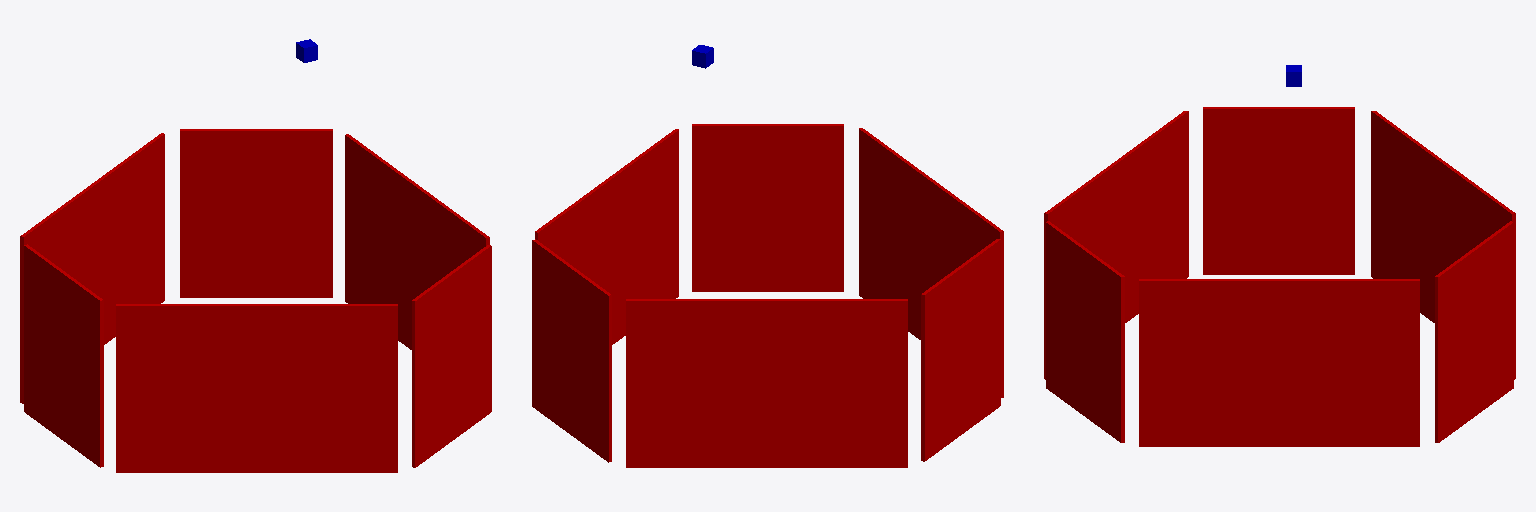
robot.urdf — omnirobot_v3:
<?xml version="1.0" encoding="utf-8"?>
<!-- This URDF was automatically created by SolidWorks to URDF Exporter! Originally created by [author] ([email redacted]) 
     Commit Version: 1.5.1-0-g916b5db  Build Version: 1.5.7152.31018
     For more information, please see http://wiki.ros.org/sw_urdf_exporter -->
<robot
  name="omnirobot_v3">
  <!--colours defined for convenience-->
  <material name="black">
    <color rgba="0.0 0.0 0.0 1.0"/>
  </material>
  <material name="blue">
    <color rgba="0.0 0.0 0.8 1.0"/>
  </material>
  <material name="green">
    <color rgba="0.0 0.8 0.0 1.0"/>
  </material>
  <material name="grey">
    <color rgba="0.2 0.2 0.2 1.0"/>
  </material>
  <material name="orange">
    <color rgba="1.0 0.4235294117647059 0.0392156862745098 1.0"/>
  </material>
  <material name="brown">
    <color rgba="0.8705882352941177 0.8117647058823529 0.7647058823529411 1.0"/>
  </material>
  <material name="red">
    <color rgba="0.8 0.0 0.0 1.0"/>
  </material>
  <material name="white">
    <color rgba="1.0 1.0 1.0 1.0"/>
  </material>
  <!--colours defined for convenience-->
  <link
    name="base_link">
    <inertial>
      <origin
        xyz="0.012151 -0.012869 0.20"
        rpy="0 0 0" /> <!--This is the centre of mass xyz="0.012151 -0.012869 0.37433" -->
      <mass
        value="25.164" /> <!--25.164-->
      <inertia
        ixx="0.15544"
        ixy="-1.3379E-05"
        ixz="4.946E-05"
        iyy="0.15382"
        iyz="-3.2387E-05"
        izz="0.16354" />
    </inertial>
    <visual>
      <origin
        xyz="0 0 0"
        rpy="0 0 0" />
      <geometry>
        <mesh
          filename="package://omnirobot_v3/meshes/base_link.STL" />
      </geometry>
      <material
        name="">
        <color
          rgba="0.62745 0.62745 0.62745 1" />
      </material>
    </visual>
    <collision>
      <origin
        xyz="0 0 0"
        rpy="0 0 0" />
      <geometry>
        <mesh
          filename="package://omnirobot_v3/meshes/base_link.STL" />
      </geometry>
    </collision>
  </link>
  <!--############# Here onwards is added virtual links section ##############-->
  <link
    name="camera"> <!--virtual link-->
    <inertial>
      <origin
        xyz="-0.018786 -0.00025995 0.0091985"
        rpy="0 0 0" /> 
      <mass
        value="0.16603" />
      <inertia
        ixx="0.0004097"
        ixy="5.348E-07"
        ixz="-3.83E-08"
        iyy="2.5534E-05"
        iyz="1.2789E-08"
        izz="0.00041805" />
    </inertial>
    <visual>
      <origin
        xyz="0 0 0"
        rpy="0 0 0" />
      <geometry>
        <!--mesh
          filename="package://omnirobot/meshes/front_right_plate.STL" /-->
        <box size="0.02 0.02 0.02"/>
      </geometry>
      <material
        name="blue">
      </material>
    </visual>
    <!--visual>
      <origin
        xyz="0 0 0"
        rpy="0 0 0" />
      <geometry>
        <mesh
          filename="package://omnirobot/meshes/camera.STL" />
      </geometry>
      <material
        name="">
        <color
          rgba="0.792156862745098 0.819607843137255 0.933333333333333 1" />
      </material>
    </visual>
    <collision>
      <origin
        xyz="0 0 0"
        rpy="0 0 0" />
      <geometry>
        <mesh
          filename="package://omnirobot/meshes/camera.STL" />
      </geometry>
    </collision-->
  </link>
  <joint
    name="camera_to_base_link"
    type="fixed">
    <origin
      xyz="0.08046 0.005 0.81809"
      rpy="0 0 0" /> <!--originally: xyz="0.11046 -0.004146 0.78309"
      rpy="0 0 0"-->
    <parent
      link="base_link" />
    <child
      link="camera" />
    <axis
      xyz="0 0 0" />
  </joint>
  <link
    name="laser_1">
    <inertial>
      <origin
        xyz="-6.245E-07 -0.023496 -0.012259"
        rpy="0 0 0" />
      <mass
        value="0.1215" />
      <inertia
        ixx="0.00010976"
        ixy="1.2854E-07"
        ixz="2.2888E-07"
        iyy="0.00010738"
        iyz="9.393E-07"
        izz="6.0425E-05" />
    </inertial>
    <!--visual>
      <origin
        xyz="0 0 0"
        rpy="0 0 0" />
      <geometry>
        <mesh
          filename="package://omnirobot/meshes/laser_1.STL" />
      </geometry>
      <material
        name="">
        <color
          rgba="0.627450980392157 0.627450980392157 0.627450980392157 1" />
      </material>
    </visual>
    <collision>
      <origin
        xyz="0 0 0"
        rpy="0 0 0" />
      <geometry>
        <mesh
          filename="package://omnirobot/meshes/laser_1.STL" />
      </geometry>
    </collision-->
  </link>
  <joint
    name="laser_1_to_base_link"
    type="fixed">
    <origin
      xyz="0.052032 0.1139 0.6588" 
      rpy="0 0 1.57079" /> <!--calibrated values from original: xyz="0.081032 0.1439 0.6388" 
      rpy="0 0 1.57079" />-->
    <parent
      link="base_link" />
    <child
      link="laser_1" />
    <axis
      xyz="0 0 0" />
  </joint>
  <link
    name="laser_2">
    <inertial>
      <origin
        xyz="6.2453E-07 0.023496 -0.012259"
        rpy="0 0 0" />
      <mass
        value="0.1215" />
      <inertia
        ixx="0.00010976"
        ixy="1.2854E-07"
        ixz="-2.2888E-07"
        iyy="0.00010738"
        iyz="-9.393E-07"
        izz="6.0425E-05" />
    </inertial>
    <!--visual>
      <origin
        xyz="0 0 0"
        rpy="0 0 0" />
      <geometry>
        <mesh
          filename="package://omnirobot/meshes/laser_2.STL" />
      </geometry>
      <material
        name="">
        <color
          rgba="0.627450980392157 0.627450980392157 0.627450980392157 1" />
      </material>
    </visual>
    <collision>
      <origin
        xyz="0 0 0"
        rpy="0 0 0" />
      <geometry>
        <mesh
          filename="package://omnirobot/meshes/laser_2.STL" />
      </geometry>
    </collision-->
  </link>
  <joint
    name="laser_2_to_base_link"
    type="fixed">
    <origin
      xyz="0.046032 -0.1322 0.6588"
      rpy="0 0 -1.57079" /> <!--calibrated values from original: xyz="0.081032 -0.1522 0.6388"-->
    <parent
      link="base_link" />
    <child
      link="laser_2" />
    <axis
      xyz="0 0 0" />
  </joint>
  <link
    name="front_plate">
    <inertial>
      <origin
        xyz="0.0095337 1.1345E-15 0.0034793"
        rpy="0 0 0" />
      <mass
        value="0.47182" />
      <inertia
        ixx="0.0065826"
        ixy="3.3798E-17"
        ixz="-7.3583E-08"
        iyy="0.0019654"
        iyz="-3.9219E-15"
        izz="0.0046194" />
    </inertial>
    <visual>
      <origin
        xyz="0 0 0"
        rpy="0 0 0" />
      <geometry>
        <!--mesh
          filename="package://omnirobot/meshes/front_plate.STL" /-->
        <box size="0.005 0.345 0.225"/>
      </geometry>
      <material
        name="red">
        <!--color
          rgba="1 1 1 0.3" /-->
      </material>
    </visual>
    <collision>
      <origin
        xyz="0 0 0"
        rpy="0 0 0" />
      <geometry>
        <!--mesh
          filename="package://omnirobot/meshes/front_plate.STL" /-->
        <box size="0.005 0.345 0.225"/>
      </geometry>
    </collision>
  </link>
  <joint
    name="front_plate_to_base_link"
    type="fixed">
    <origin
      xyz="0.22587 -0.012539 0.49700"
      rpy="0 0 0" /> <!--calibrated values from original: xyz="0.23247 -0.003539 0.46991"--><!--Values before offset for force_torque sensing in pybullet: xyz="0.22487 -0.012539 0.49700"-->
    <parent
      link="base_link" />
    <child
      link="front_plate" />
    <axis
      xyz="0 0 0" />
  </joint>
  <link
    name="back_plate">
    <inertial>
      <origin
        xyz="-0.010977 6.5356E-16 0.021201"
        rpy="0 0 0" />
      <mass
        value="0.26343" />
      <inertia
        ixx="0.0017823"
        ixy="-8.3769E-16"
        ixz="6.4463E-16"
        iyy="0.0010598"
        iyz="-1.3548E-15"
        izz="0.00072461" />
    </inertial>
    <visual>
      <origin
        xyz="0 0 0"
        rpy="0 0 0" />
      <geometry>
        <!--mesh
          filename="package://omnirobot/meshes/back_plate.STL" /-->
        <box size="0.005 0.186 0.225"/>
      </geometry>
      <material
        name="red">
        <!--color
          rgba="1 1 1 0.3" /-->
      </material>
    </visual>
    <collision>
      <origin
        xyz="0 0 0"
        rpy="0 0 0" />
      <geometry>
        <!--mesh
          filename="package://omnirobot/meshes/back_plate.STL" /-->
        <box size="0.005 0.186 0.225"/>
      </geometry>
    </collision>
  </link>
  <joint
    name="back_plate_to_base_link"
    type="fixed"> <!---calibrated x value: 0.27259-->
    <origin
      xyz="-0.27359 -0.013250 0.49700"
      rpy="0 0 0" /> <!--calibrated values from original: xyz="-0.24359 -0.003539 0.45137"--><!--Values before offset for force_torque sensing in pybullet: xyz="-0.27259 -0.013250 0.49700"-->
    <parent
      link="base_link" />
    <child
      link="back_plate" />
    <axis
      xyz="0 0 0" />
  </joint>
  <link
    name="front_left_plate">
    <inertial>
      <origin
        xyz="0.0054884 0.0095062 0.021201"
        rpy="0 0 0" />
      <mass
        value="0.26343" />
      <inertia
        ixx="0.0012404"
        ixy="0.00031287"
        ixz="-1.3516E-15"
        iyy="0.0016017"
        iyz="-1.9871E-16"
        izz="0.00072461" />
    </inertial>
    <visual>
      <origin
        xyz="0 0 0"
        rpy="0 0 0" />
      <geometry>
        <!--mesh
          filename="package://omnirobot/meshes/front_left_plate.STL" /-->
        <box size="0.005 0.186 0.225"/>
      </geometry>
      <material
        name="red">
        <!--color
          rgba="1 1 1 0.3" /-->
      </material>
    </visual>
    <collision>
      <origin
        xyz="0 0 0"
        rpy="0 0 0" />
      <geometry>
        <!--mesh
          filename="package://omnirobot/meshes/front_left_plate.STL" /-->
        <box size="0.005 0.186 0.225"/>
      </geometry>
    </collision>
  </link>
  <joint
    name="front_left_plate_to_base_link"
    type="fixed">
    <origin
      xyz="0.13693 0.2264001 0.49700"
      rpy="0 0 1.04719" /> <!--calibrated values from original: xyz="0.14543 0.22107 0.45137" rpy='"0 0 0"--><!--Values before offset for force_torque sensing in pybullet: xyz="0.13443 0.22207 0.49700"-->
    <parent
      link="base_link" />
    <child
      link="front_left_plate" />
    <axis
      xyz="0 0 0" />
  </joint>
  <link
    name="front_right_plate">
    <inertial>
      <origin
        xyz="0.0054884 -0.0094962 0.021201"
        rpy="0 0 0" />
      <mass
        value="0.26343" />
      <inertia
        ixx="0.0012404"
        ixy="-0.00031287"
        ixz="1.1957E-15"
        iyy="0.0016017"
        iyz="1.2014E-15"
        izz="0.00072461" />
    </inertial>
    <visual>
      <origin
        xyz="0 0 0"
        rpy="0 0 0" />
      <geometry>
        <!--mesh
          filename="package://omnirobot/meshes/front_right_plate.STL" /-->
        <box size="0.005 0.186 0.225"/>
      </geometry>
      <material
        name="red">
        <!--color
          rgba="1 1 1 0.3" /-->
      </material>
    </visual>
    <collision>
      <origin
        xyz="0 0 0"
        rpy="0 0 0" />
      <geometry>
        <!--mesh
          filename="package://omnirobot/meshes/front_right_plate.STL" /-->
        <box size="0.005 0.186 0.225"/>
      </geometry>
    </collision>
  </link>
  <joint
    name="front_right_plate_to_base_link"
    type="fixed">
    <origin
      xyz="0.13643 -0.2514701 0.49700"
      rpy="0 0 -1.04719" /> <!--calibrated values from original: xyz="0.14543 -0.22814 0.45137" rpy='"0 0 0"--><!--Values before offset for force_torque sensing in pybullet: xyz="0.13393 -0.24714 0.49700"-->
    <parent
      link="base_link" />
    <child
      link="front_right_plate" />
    <axis
      xyz="0 0 0" />
  </joint>
  <link
    name="back_left_plate">
    <inertial>
      <origin
        xyz="-0.0047668 0.0082563 0.0034797"
        rpy="0 0 0" />
      <mass
        value="0.47182" />
      <inertia
        ixx="0.0031197"
        ixy="-0.0019993"
        ixz="3.0353E-15"
        iyy="0.0054283"
        iyz="2.666E-15"
        izz="0.0046194" />
    </inertial>
    <visual>
      <origin
        xyz="0 0 0"
        rpy="0 0 0" />
      <geometry>
        <!--mesh
          filename="package://omnirobot/meshes/back_left_plate.STL" /-->
        <box size="0.005 0.345 0.225"/>
      </geometry>
      <material
        name="red">
        <!--color
          rgba="1 1 1 0.3" /-->
      </material>
    </visual>
    <collision>
      <origin
        xyz="0 0 0"
        rpy="0 0 0" />
      <geometry>
        <!--mesh
          filename="package://omnirobot/meshes/back_left_plate.STL" /-->
        <box size="0.005 0.345 0.225"/>
      </geometry>
    </collision>
  </link>
  <joint
    name="back_left_plate_to_base_link"
    type="fixed">
    <origin
      xyz="-0.116098 0.1884701 0.49700"
      rpy="0 0 -1.04719" /> <!--calibrated values from original: xyz="-0.092598 0.18414 0.46991" rpy='"0 0 0"--><!--Values before offset for force_torque sensing in pybullet: xyz="-0.113598 0.18414 0.49700"-->
    <parent
      link="base_link" />
    <child
      link="back_left_plate" />
    <axis
      xyz="0 0 0" />
  </joint>
  <link
    name="back_right_plate">
    <inertial>
      <origin
        xyz="-0.0047668 -0.0082563 0.0034797"
        rpy="0 0 0" />
      <mass
        value="0.47182" />
      <inertia
        ixx="0.0031197"
        ixy="0.0019993"
        ixz="-3.5959E-15"
        iyy="0.0054283"
        iyz="1.5424E-15"
        izz="0.0046194" />
    </inertial>
    <visual>
      <origin
        xyz="0 0 0"
        rpy="0 0 0" />
      <geometry>
        <!--mesh
          filename="package://omnirobot/meshes/back_right_plate.STL" /-->
        <box size="0.005 0.345 0.225"/>
      </geometry>
      <material
        name="red">
        <!--color
          rgba="1 1 1 0.3" /-->
      </material>
    </visual>
    <collision>
      <origin
        xyz="0 0 0"
        rpy="0 0 0" />
      <geometry>
        <!--mesh
          filename="package://omnirobot/meshes/back_right_plate.STL" /-->
        <box size="0.005 0.345 0.225"/>
      </geometry>
    </collision>
  </link>
  <joint
    name="back_right_plate_to_base_link"
    type="fixed">
    <origin
      xyz="-0.116098 -0.2130501 0.49700"
      rpy="0 0 1.04719" /> <!--calibrated values from original: xyz="-0.092598 -0.19122 0.46991" rpy='"0 0 0"--><!--Values before offset for force_torque sensing in pybullet: xyz="-0.113598 -0.20872 0.49700"-->
    <parent
      link="base_link" />
    <child
      link="back_right_plate" />
    <axis
      xyz="0 0 0" />
  </joint>
<!--############# before here is added section ##############-->
<!--Not integrating the wheels as of now, as we can ignore the actual rotation of the wheels, but just based on /cmd_vel in simulation for now-->

</robot>

--- Facts derived from the render (not from the file) ---
The picture shows the robot from 3 angles, left to right: view 1: azimuth 30°, elevation 25°; view 2: azimuth 150°, elevation 25°; view 3: azimuth 270°, elevation 25°; orthographic projection.
Robot: omnirobot_v3 — 10 links, 9 joints (9 fixed); root link base_link; default pose: every joint at zero.
Visible links, largest first — view 1: back_right_plate, front_left_plate, back_left_plate, front_plate, front_right_plate, back_plate; view 2: back_left_plate, front_right_plate, back_right_plate, front_plate, front_left_plate, back_plate; view 3: front_plate, back_plate, back_left_plate, back_right_plate, front_right_plate, front_left_plate.
Boxes of the visible links, x1=… form: back_right_plate: x1=116, y1=304, x2=397, y2=472; front_left_plate: x1=180, y1=129, x2=332, y2=297; back_left_plate: x1=20, y1=133, x2=164, y2=403; front_plate: x1=345, y1=134, x2=489, y2=349; front_right_plate: x1=412, y1=245, x2=491, y2=467; back_plate: x1=24, y1=244, x2=103, y2=467; back_left_plate: x1=626, y1=299, x2=907, y2=467; front_right_plate: x1=692, y1=124, x2=843, y2=291; back_right_plate: x1=859, y1=128, x2=1003, y2=397; front_plate: x1=535, y1=129, x2=678, y2=344; front_left_plate: x1=532, y1=239, x2=611, y2=462; back_plate: x1=921, y1=239, x2=1000, y2=461; front_plate: x1=1139, y1=279, x2=1419, y2=446; back_plate: x1=1203, y1=107, x2=1354, y2=274; back_left_plate: x1=1371, y1=111, x2=1515, y2=379; back_right_plate: x1=1044, y1=111, x2=1188, y2=379; front_right_plate: x1=1046, y1=221, x2=1124, y2=442; front_left_plate: x1=1435, y1=221, x2=1513, y2=442.
Size in the robot's own frame: 0.5045 by 0.5784 by 0.4436 metres.
Meshes: 1 distinct files referenced, 0 mesh visuals loaded (none loaded); not drawn: 1 (reference not matched to a file when rendering).
